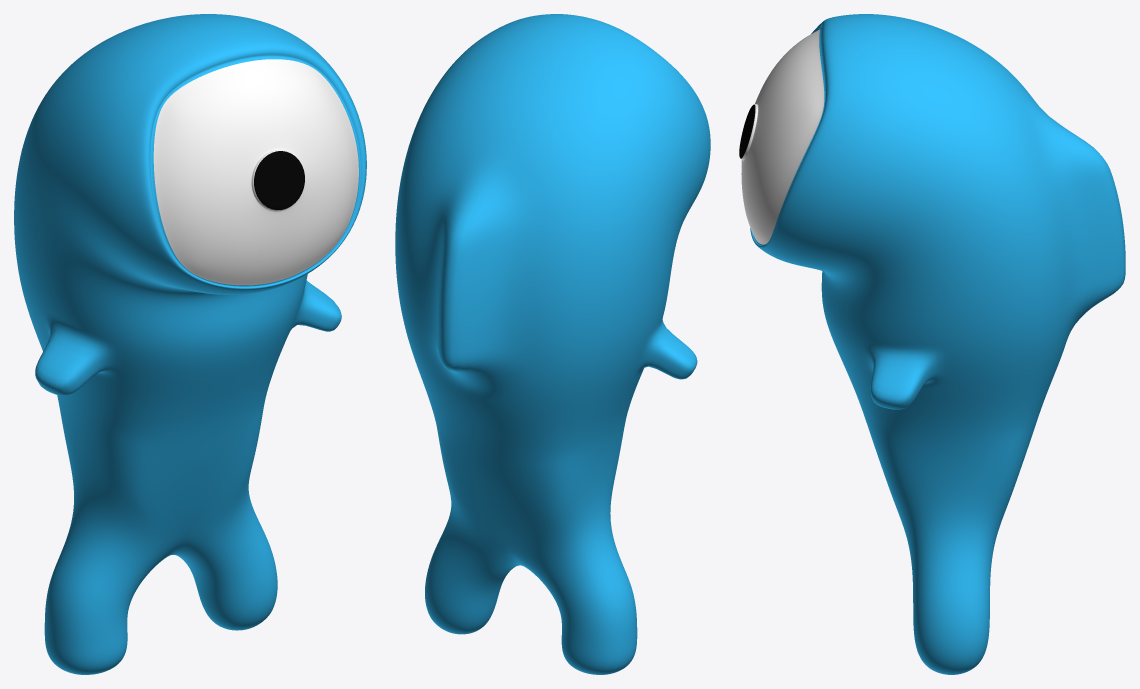
File: fish.glb
3 renders of one model, left to right at view 1: azimuth 30°, elevation 25°; view 2: azimuth 150°, elevation 25°; view 3: azimuth 270°, elevation 25°, orthographic. The views are drawn at different scales.
Visible parts, largest first — view 1: Cube; view 2: Cube; view 3: Cube.
Boxes of the visible parts, left/top/right/bottom form: Cube: left=14, top=14, right=366, bottom=674; Cube: left=395, top=14, right=710, bottom=674; Cube: left=739, top=14, right=1125, bottom=674.
Size of the model in its own units: 0.5407 by 1.12 by 0.6437.
